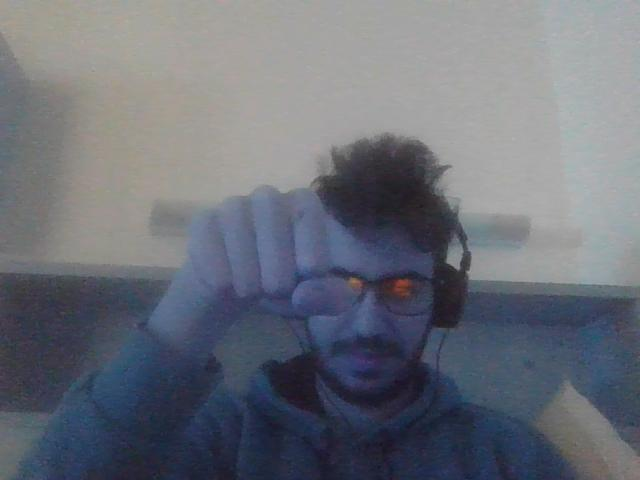yes: (190, 181, 354, 323)
